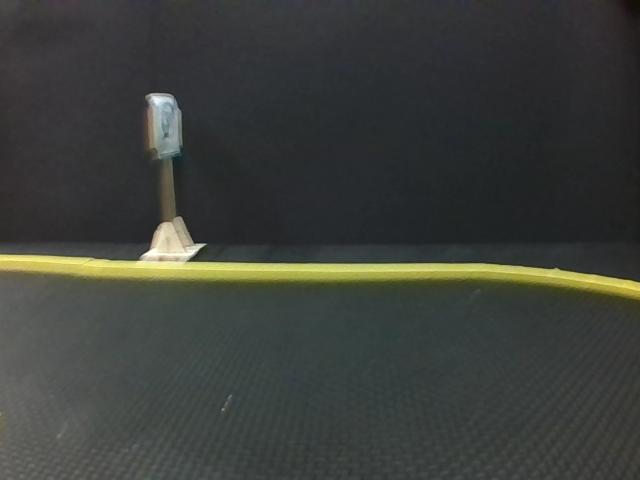no30: (152, 94, 180, 156)
